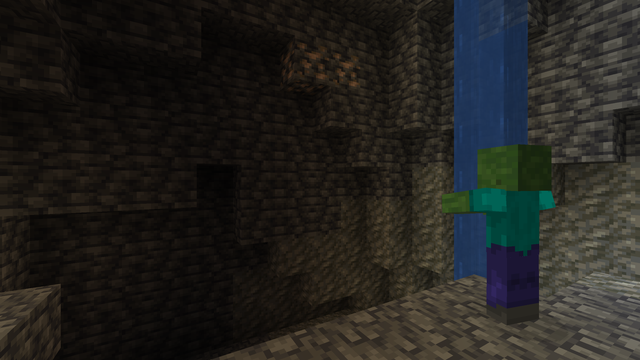zombies: (472, 147, 555, 336)
